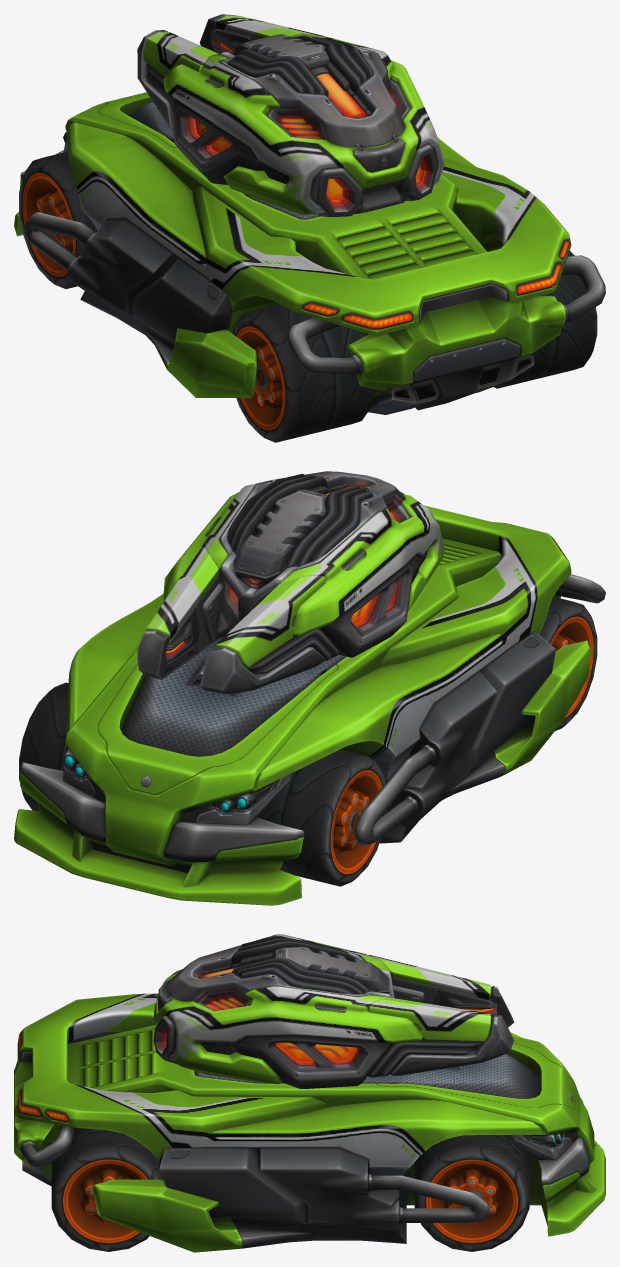
File: GT_IsisaHornet.glb
3 views of the same model, one above another, from view 1: azimuth 30°, elevation 25°; view 2: azimuth 150°, elevation 25°; view 3: azimuth 270°, elevation 25° (orthographic). The views are drawn at different scales.
Visible parts, largest first — view 1: hull, turret, lwheel_2, lwheel_1, rwheel_2, cover_t, cover_l, pump; view 2: hull, turret, lwheel_1, cover_t, rwheel_1, cover_l, lwheel_2, cover_r; view 3: hull, turret, rwheel_1, rwheel_2, cover_t, cover_r.
Boxes of the visible parts, box(x1,y1,x2,y2) form: hull: box(14, 92, 605, 414); turret: box(146, 29, 444, 216); lwheel_2: box(232, 304, 375, 442); lwheel_1: box(19, 151, 97, 288); rwheel_2: box(493, 250, 597, 388); cover_t: box(143, 15, 324, 77); cover_l: box(137, 30, 172, 129); pump: box(316, 73, 367, 118); hull: box(14, 505, 605, 905); turret: box(163, 471, 444, 674); lwheel_1: box(257, 749, 387, 886); cover_t: box(146, 546, 325, 666); rwheel_1: box(19, 682, 68, 810); cover_l: box(199, 646, 325, 693); lwheel_2: box(539, 597, 597, 730); cover_r: box(137, 630, 199, 679); hull: box(14, 993, 605, 1252); turret: box(153, 934, 496, 1088); rwheel_1: box(414, 1135, 529, 1251); rwheel_2: box(51, 1128, 162, 1251); cover_t: box(368, 954, 491, 1041); cover_r: box(390, 1014, 514, 1075).
Size of the model in its own units: 327 by 236 by 530.
3 materials, 3 textured.
